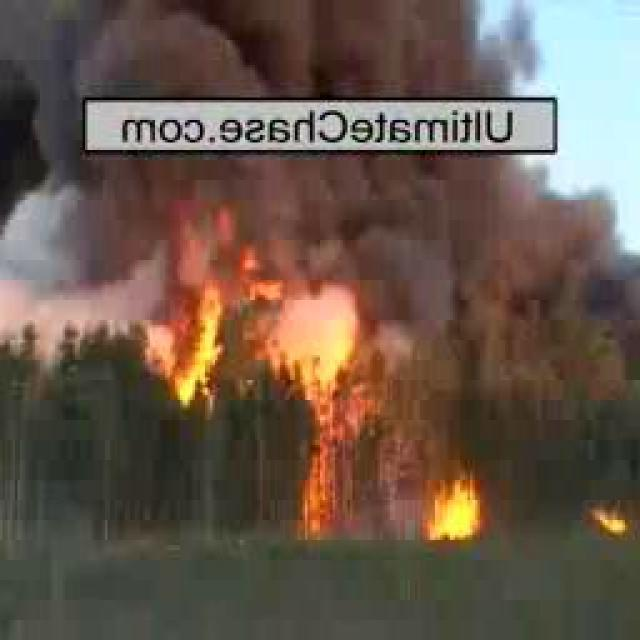Fire: (143, 240, 244, 404), (283, 394, 359, 540), (424, 480, 476, 545), (590, 502, 628, 541)
